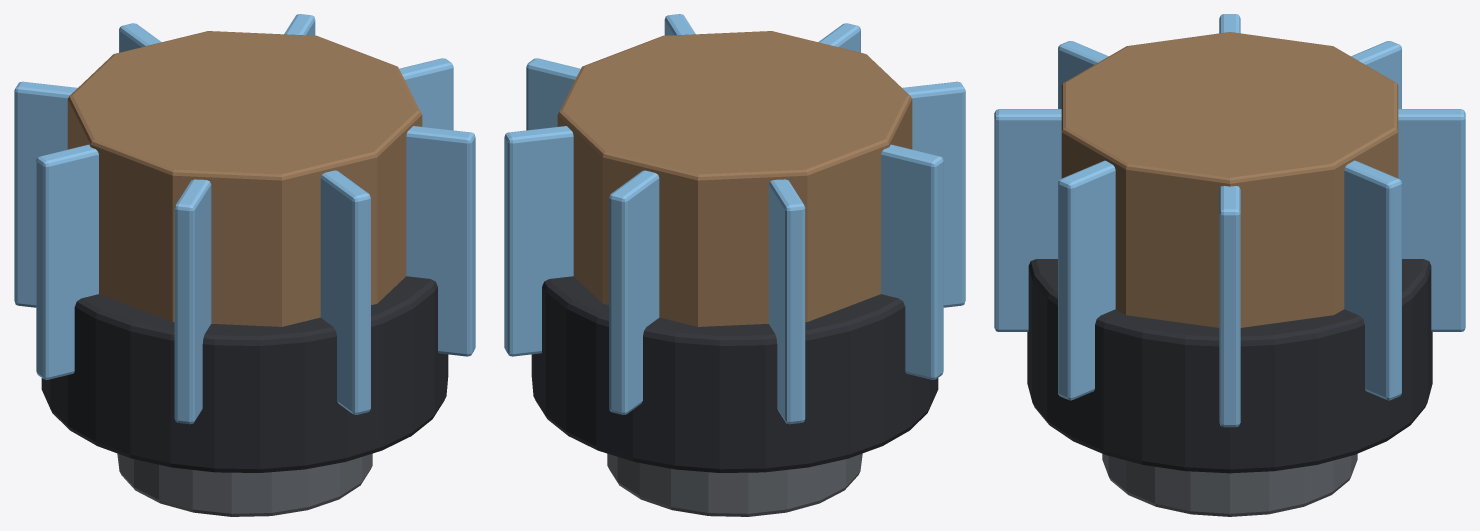
File: module_core_output.fbx
3 views of the same model, side by side, from view 1: azimuth 30°, elevation 25°; view 2: azimuth 150°, elevation 25°; view 3: azimuth 270°, elevation 25° (orthographic).
Parts seen in each view (by area): view 1: SM_Module_CoreOutput; view 2: SM_Module_CoreOutput; view 3: SM_Module_CoreOutput.
Boxes of the visible parts, x1,y1,x2,y2 form: SM_Module_CoreOutput: [14, 14, 475, 516]; SM_Module_CoreOutput: [504, 14, 965, 516]; SM_Module_CoreOutput: [994, 14, 1465, 516].
Size of what is drawn, in the model's own units: 31.4 by 26.5 by 31.4.
